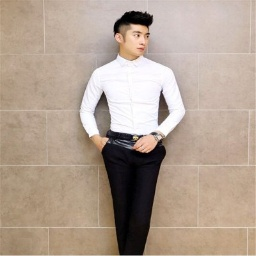face: (112, 10, 155, 59)
